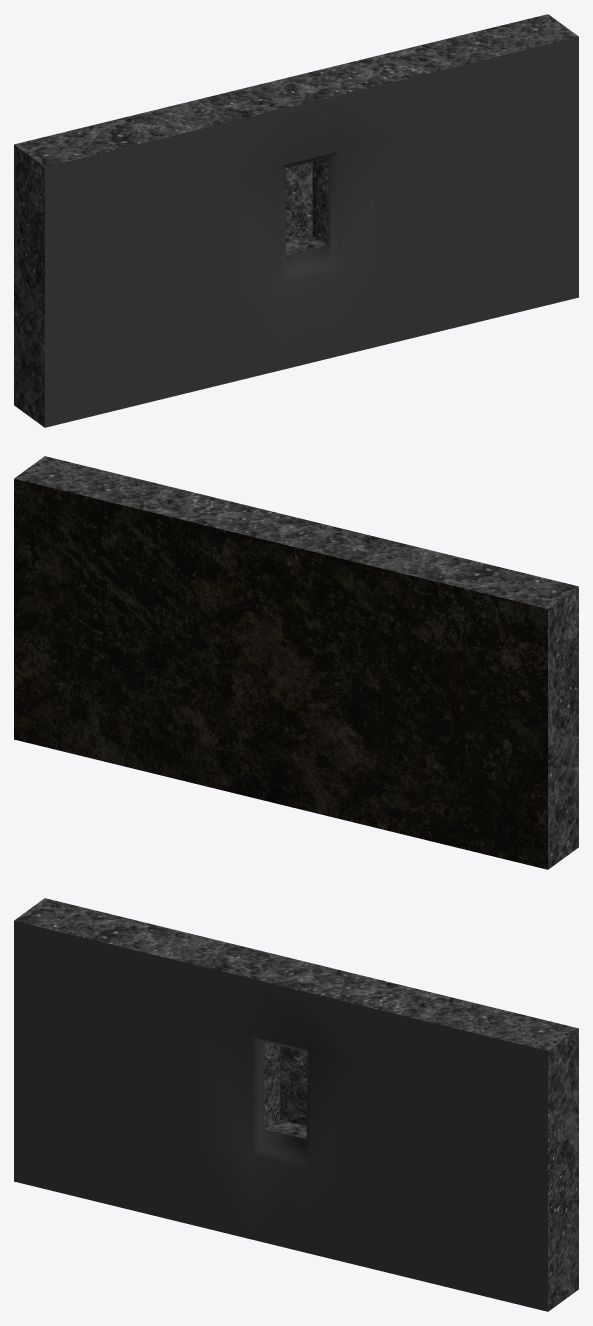
File: SM_WallPlainHalf03.FBX
The picture shows the model from 3 angles, top to bottom: view 1: azimuth 30°, elevation 25°; view 2: azimuth 150°, elevation 25°; view 3: azimuth 330°, elevation 25°; orthographic projection.
Parts seen in each view (by area): view 1: SM_WallPlainHalf03_LOD0; view 2: SM_WallPlainHalf03_LOD0; view 3: SM_WallPlainHalf03_LOD0.
Boxes of the visible parts, x1=… form: SM_WallPlainHalf03_LOD0: x1=14, y1=14, x2=578, y2=427; SM_WallPlainHalf03_LOD0: x1=14, y1=456, x2=578, y2=869; SM_WallPlainHalf03_LOD0: x1=14, y1=898, x2=578, y2=1311.
Bounding box in the file's own units: 300 × 30 × 140.
